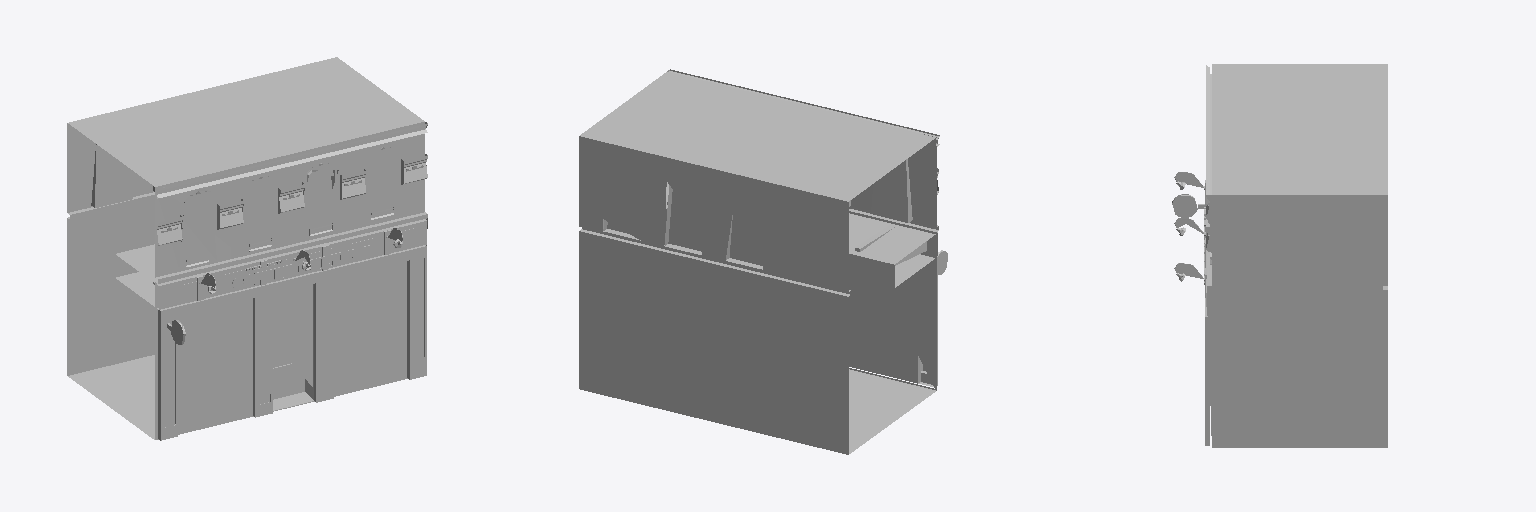
Rendered from Local2.obj.
3 renders of one model, left to right at view 1: azimuth 30°, elevation 25°; view 2: azimuth 150°, elevation 25°; view 3: azimuth 270°, elevation 25°, orthographic.
Visible parts, largest first — view 1: Edificio_5.001; view 2: Edificio_5.001; view 3: Edificio_5.001.
Part boxes in pixels (x1,y1,x2,y2): Edificio_5.001: (67, 57, 427, 440); Edificio_5.001: (579, 69, 947, 454); Edificio_5.001: (1172, 64, 1387, 447).
Bounding box in the file's own units: 40.02 × 35.88 × 27.72.